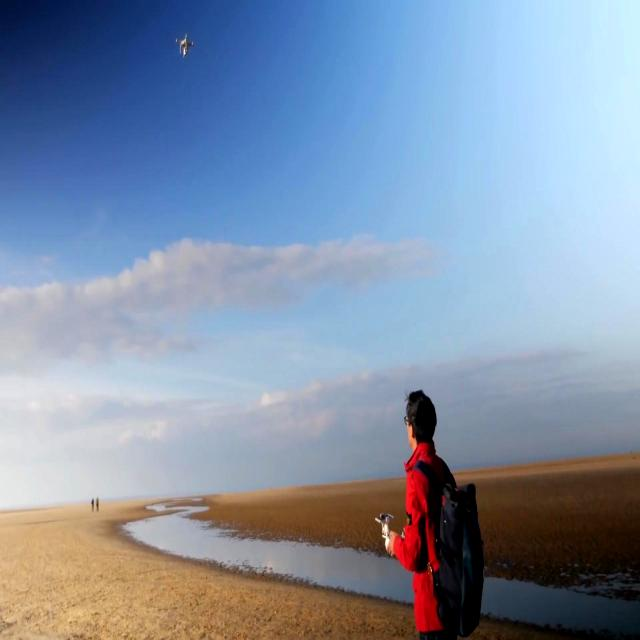drone: (174, 33, 195, 56)
